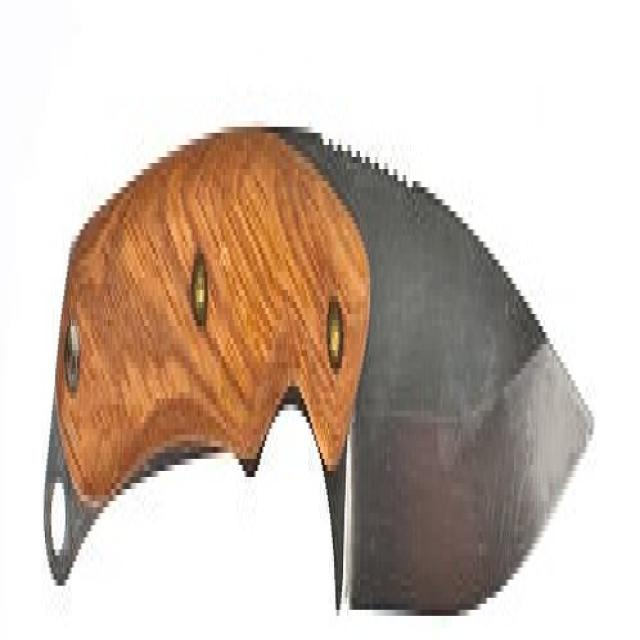knife: (32, 84, 598, 640)
